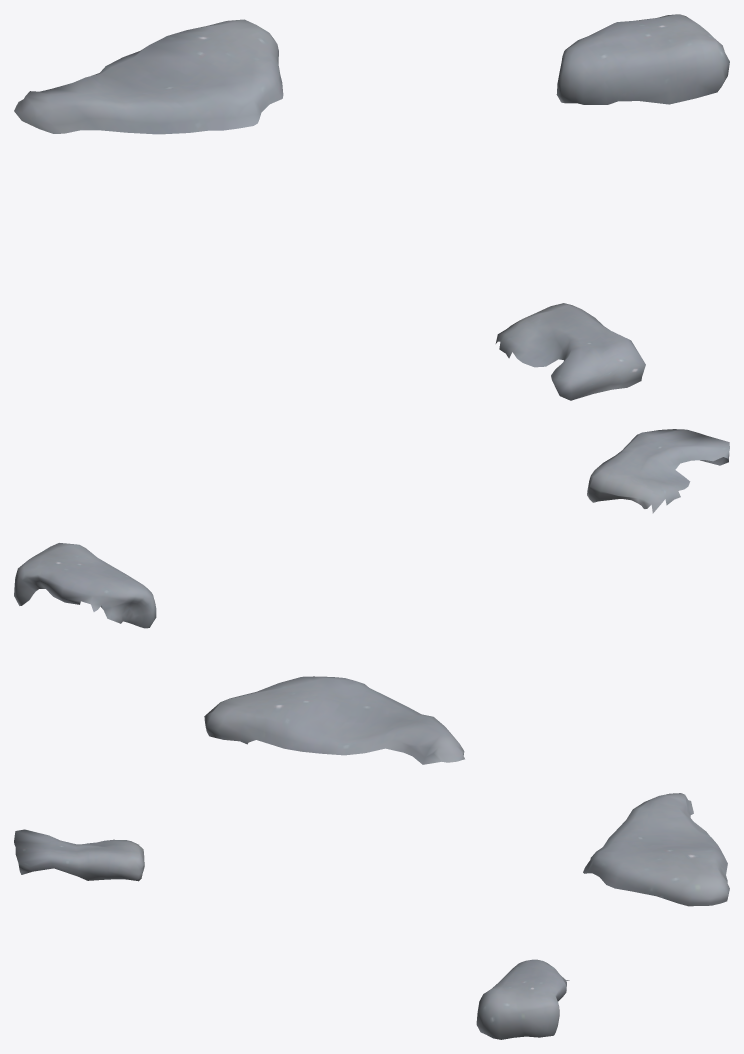
The model's file is pref_sm_beach_winter_grass_snow01_lv3.fbx.
3 renders of one model, top to bottom at view 1: azimuth 30°, elevation 25°; view 2: azimuth 150°, elevation 25°; view 3: azimuth 270°, elevation 25°, orthographic. The views are drawn at different scales.
Parts seen in each view (by area): view 1: pref_sm_beach_winter_grass_snow01_lv3; view 2: pref_sm_beach_winter_grass_snow01_lv3; view 3: pref_sm_beach_winter_grass_snow01_lv3.
Part boxes in pixels (x1=…): pref_sm_beach_winter_grass_snow01_lv3: x1=14, y1=14, x2=729, y2=400; pref_sm_beach_winter_grass_snow01_lv3: x1=14, y1=429, x2=729, y2=764; pref_sm_beach_winter_grass_snow01_lv3: x1=14, y1=793, x2=729, y2=1039.
Size of the model in its own units: 15.55 by 1.34 by 21.06.
